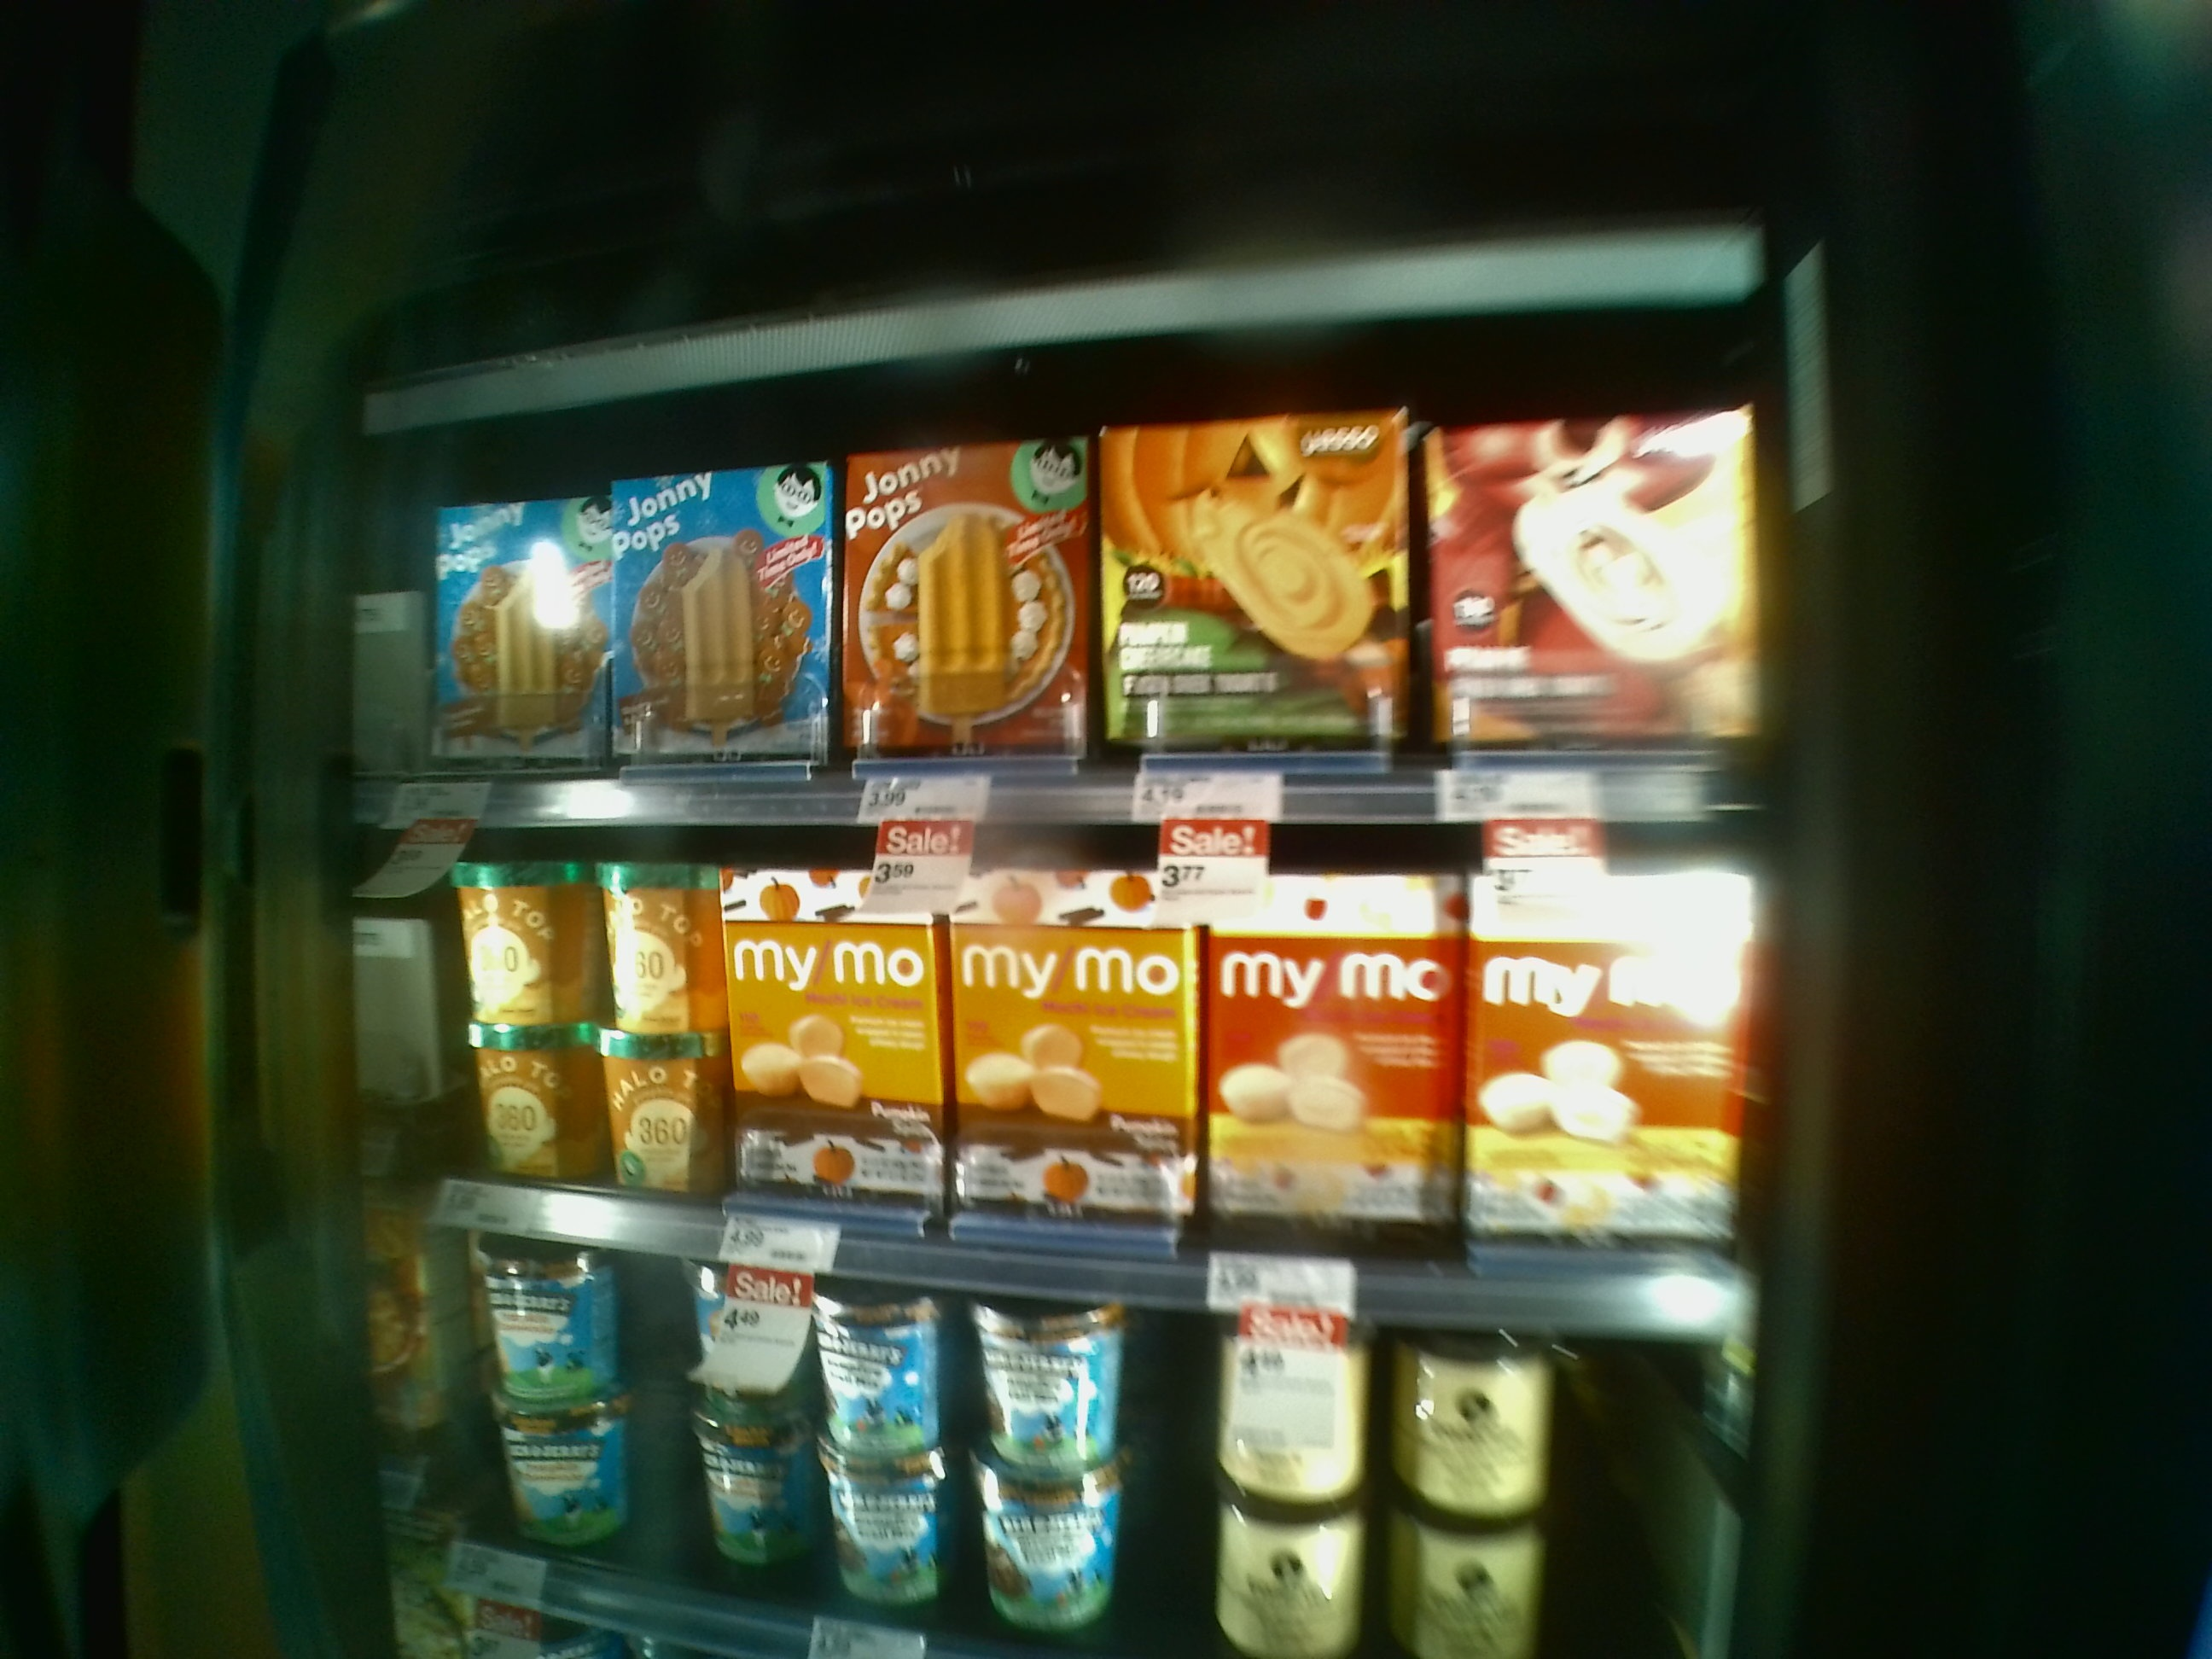shelf: (338, 791, 1770, 1328), (387, 415, 1770, 829)
